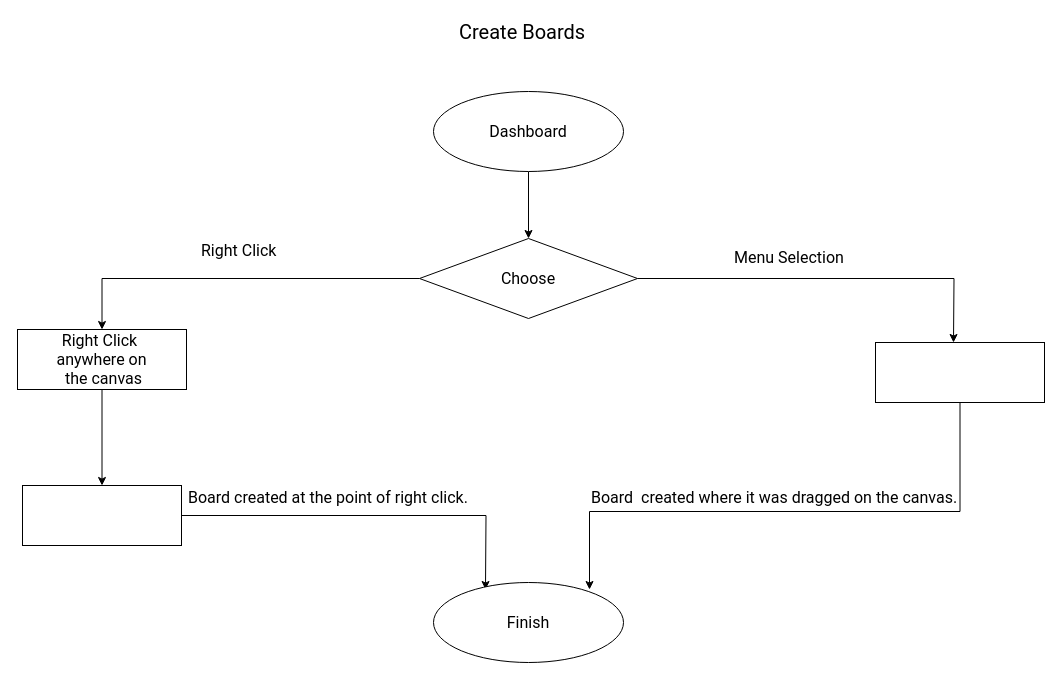
This 1062x680 diagram has some shape labels left out. The centre of each missing label's shape, as x and y in pixels:
Drag "BOARD" to the canvas.: (x=959, y=372)
Select "NEW BOARD": (x=102, y=515)
